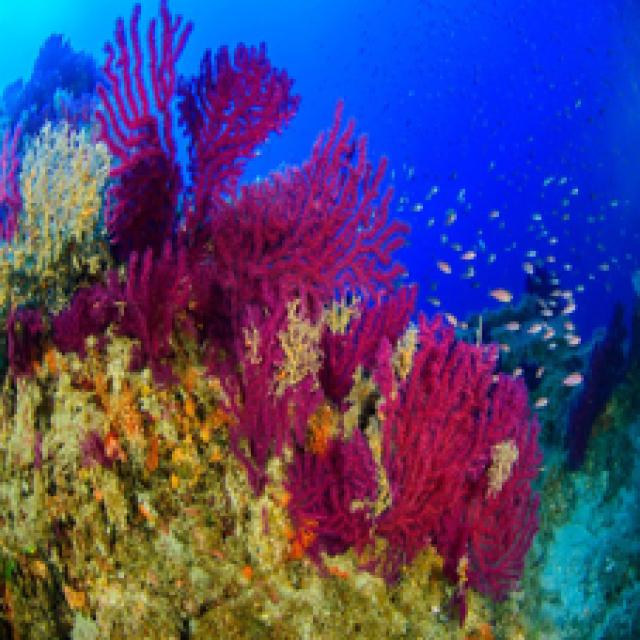Bleached: (21, 122, 108, 272)
Healthy: (52, 4, 537, 618), (4, 325, 466, 635)
